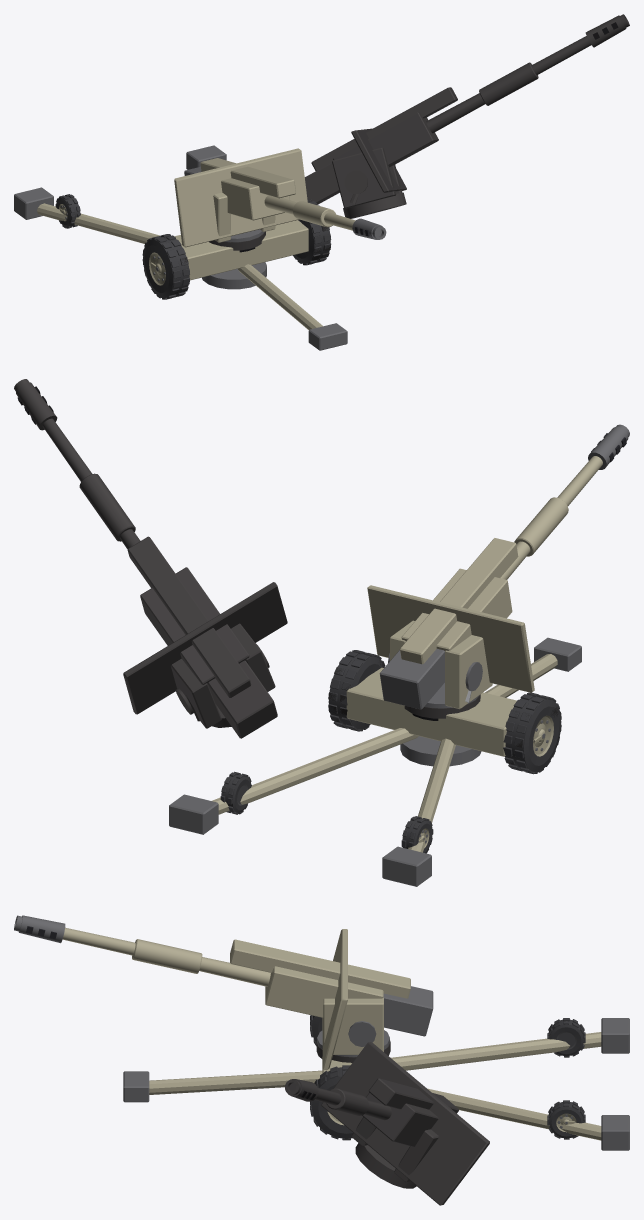
File: artillery__d_30_khalifa.glb
3 renders of one model, top to bottom at view 1: azimuth 30°, elevation 25°; view 2: azimuth 150°, elevation 25°; view 3: azimuth 270°, elevation 25°, orthographic. The views are drawn at different scales.
Visible parts, largest first — view 1: Wreck, Hull_Mesh, Turret_Mesh, Gun_Mesh, Wheel_L0_Mesh, Wheel_R0_Mesh, Wheel_L1_Mesh; view 2: Wreck, Hull_Mesh, Gun_Mesh, Turret_Mesh, Wheel_L0_Mesh, Wheel_R0_Mesh, Wheel_R1_Mesh, Wheel_L1_Mesh; view 3: Wreck, Gun_Mesh, Hull_Mesh, Turret_Mesh, Wheel_R0_Mesh, Wheel_R1_Mesh, Wheel_L1_Mesh.
Part boxes in pixels (x1,y1,x2,y2): Wreck: [62, 14, 629, 296]; Hull_Mesh: [14, 145, 347, 350]; Turret_Mesh: [174, 148, 307, 247]; Gun_Mesh: [184, 158, 386, 239]; Wheel_L0_Mesh: [142, 234, 189, 299]; Wheel_R0_Mesh: [293, 199, 331, 265]; Wheel_L1_Mesh: [55, 194, 80, 228]; Wreck: [14, 379, 561, 852]; Hull_Mesh: [169, 637, 581, 886]; Gun_Mesh: [379, 424, 629, 709]; Turret_Mesh: [367, 585, 534, 709]; Wheel_L0_Mesh: [503, 692, 561, 774]; Wheel_R0_Mesh: [328, 650, 384, 731]; Wheel_R1_Mesh: [220, 771, 251, 814]; Wheel_L1_Mesh: [401, 816, 433, 853]; Wreck: [285, 1041, 577, 1205]; Gun_Mesh: [14, 915, 433, 1036]; Hull_Mesh: [123, 1018, 629, 1150]; Turret_Mesh: [317, 929, 389, 1069]; Wheel_R0_Mesh: [310, 1065, 352, 1140]; Wheel_R1_Mesh: [547, 1100, 585, 1139]; Wheel_L1_Mesh: [547, 1018, 585, 1057].
Size of what is drawn, in the model's own units: 7.2 by 2.81 by 7.09.
